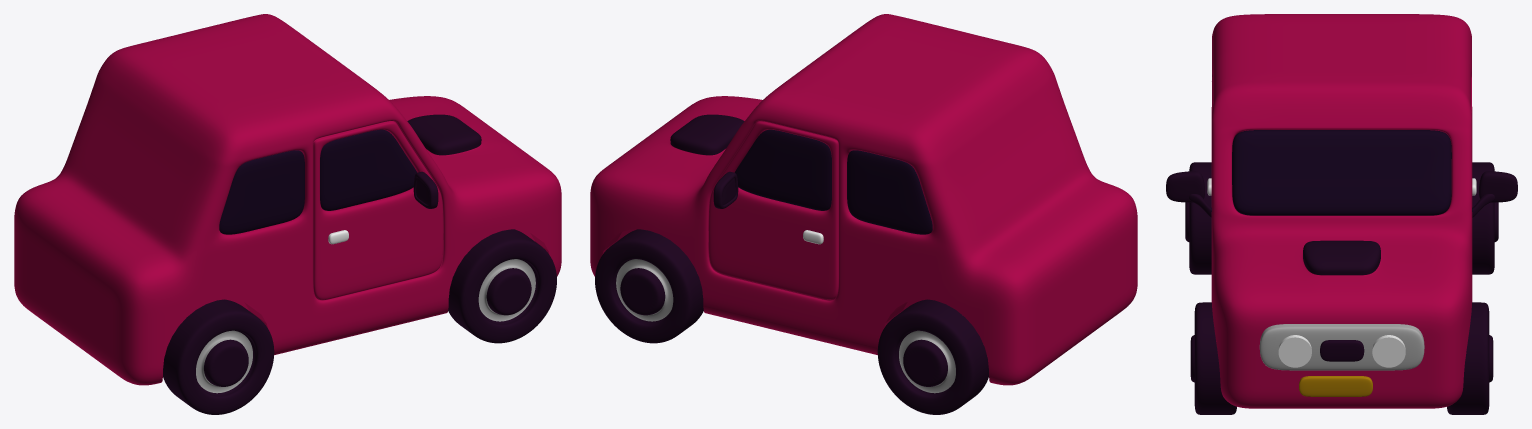
File: saloon-car-3d-icon-655250538194.glb
The picture shows the model from 3 angles, left to right: view 1: azimuth 30°, elevation 25°; view 2: azimuth 150°, elevation 25°; view 3: azimuth 270°, elevation 25°; orthographic projection.
Parts seen in each view (by area): view 1: Body, Tires, Windows, Rims, Hood, Mirrors; view 2: Body, Tires, Windows, Rims, Hood, Mirrors; view 3: Body, Windows, Tires, Front Panel, Hood, Mirrors, Lamp, Plate number, Grill.
Boxes of the visible parts, x1=… form: Body: x1=14, y1=14, x2=561, y2=385; Tires: x1=163, y1=229, x2=556, y2=414; Windows: x1=219, y1=129, x2=417, y2=234; Rims: x1=196, y1=259, x2=535, y2=393; Hood: x1=407, y1=114, x2=481, y2=155; Mirrors: x1=413, y1=171, x2=438, y2=208; Body: x1=590, y1=14, x2=1137, y2=385; Tires: x1=595, y1=229, x2=988, y2=414; Windows: x1=734, y1=129, x2=932, y2=234; Rims: x1=616, y1=259, x2=955, y2=393; Hood: x1=670, y1=114, x2=744, y2=155; Mirrors: x1=713, y1=171, x2=738, y2=208; Body: x1=1211, y1=14, x2=1472, y2=408; Windows: x1=1232, y1=130, x2=1451, y2=215; Tires: x1=1185, y1=162, x2=1498, y2=414; Front Panel: x1=1259, y1=324, x2=1424, y2=370; Hood: x1=1303, y1=240, x2=1380, y2=275; Mirrors: x1=1166, y1=171, x2=1517, y2=217; Lamp: x1=1278, y1=335, x2=1405, y2=367; Plate number: x1=1299, y1=376, x2=1372, y2=396; Grill: x1=1320, y1=340, x2=1364, y2=361.
Size of the model in its own units: 0.8413 by 0.4689 by 0.556.
